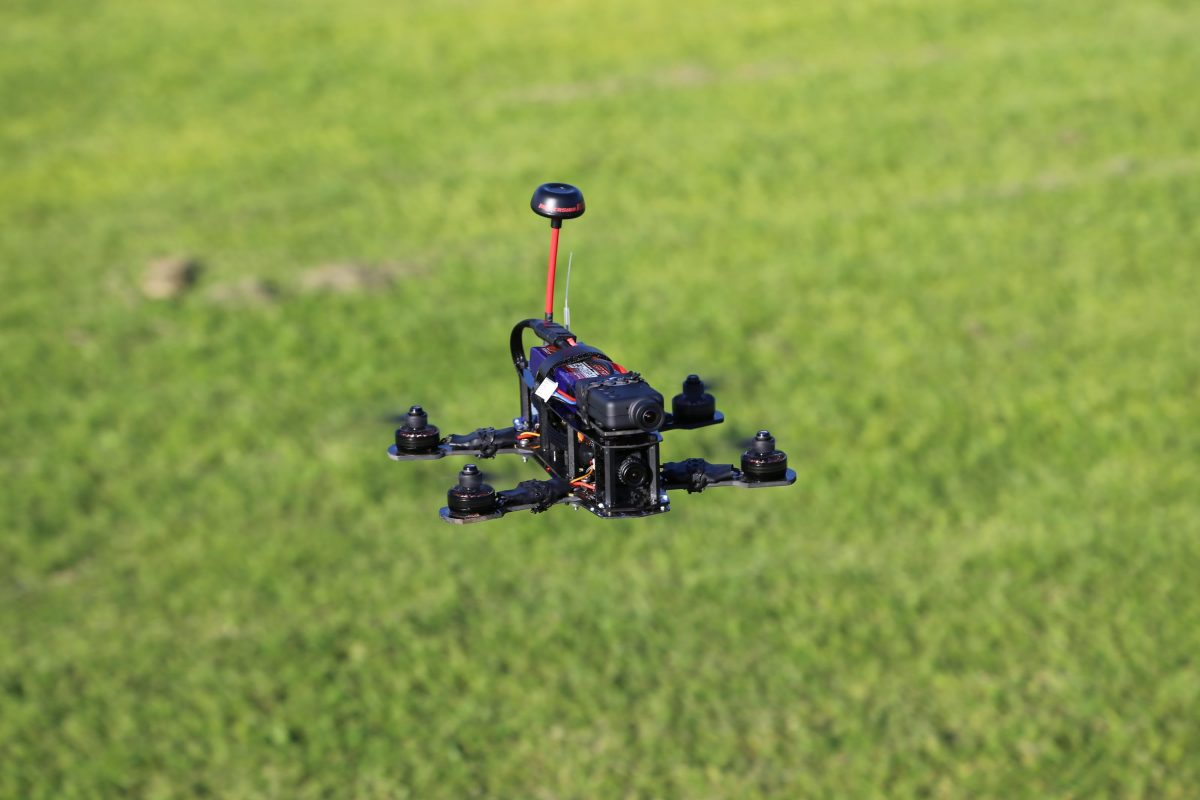drone: (365, 181, 818, 536)
